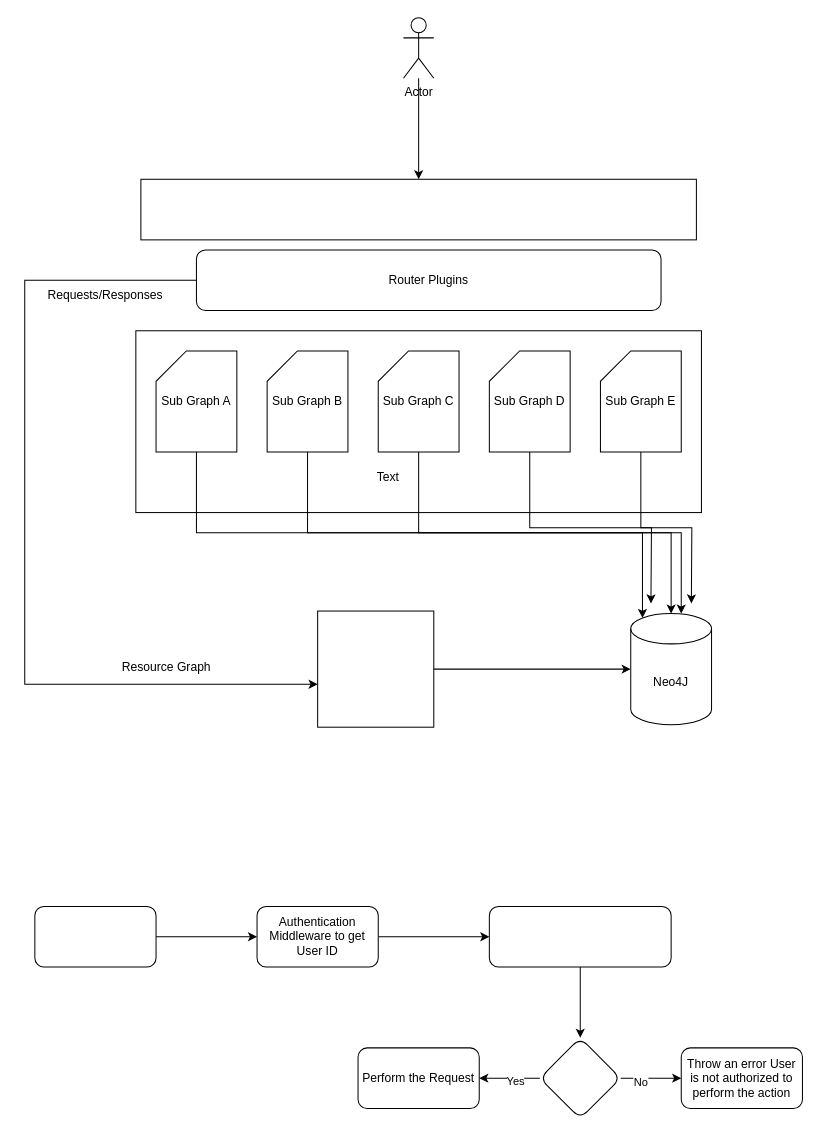
This 820x1136 diagram has some shape labels left out. Here are the shapes that lost their labels. From the top down, the box of each, then its label:
(140, 178, 696, 240): Apollo Router + Super Graph
(317, 610, 434, 727): Temporial/Kakfa
(34, 905, 156, 967): Graphql/API Request
(488, 905, 671, 967): Fetch action from Graphql API request
(539, 1037, 621, 1119): Permit PDP Check
